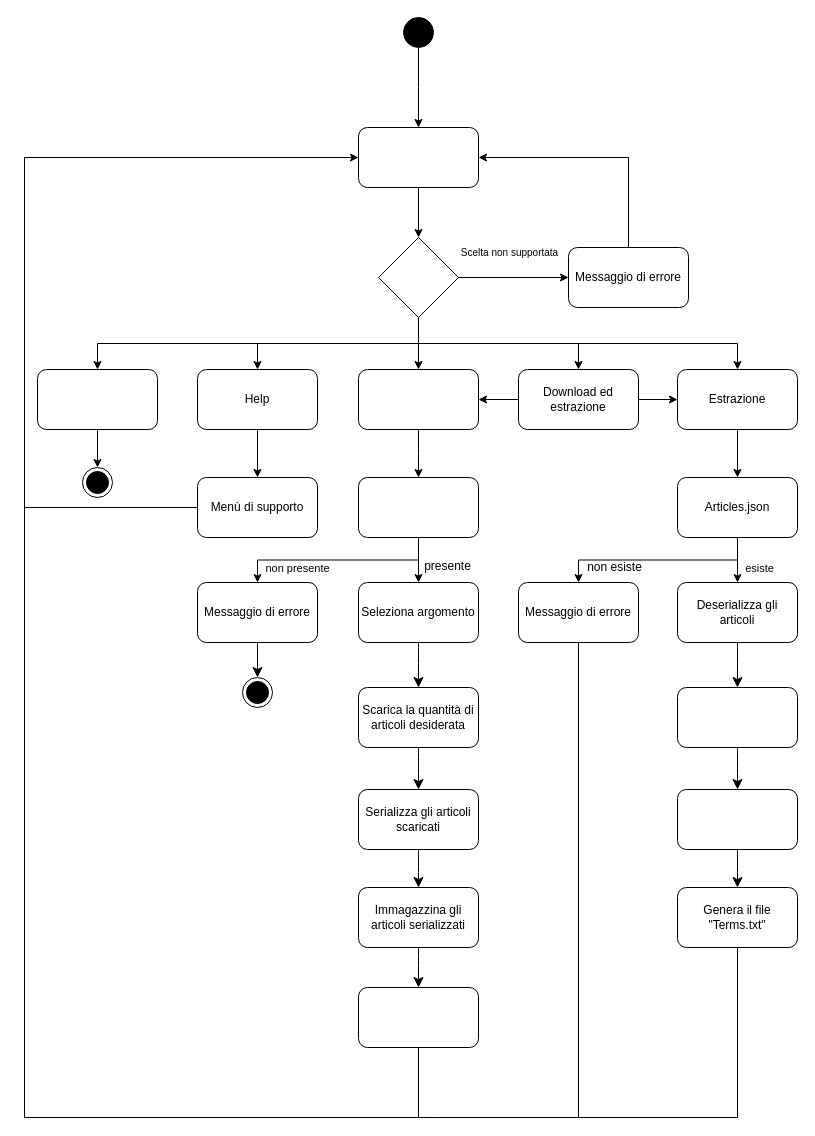
The diagram is 815 pixels wide and 1136 high, and some of its shapes have lost their labels. The centre of each missing label's shape, as x and y in pixels:
API key: point (418, 507)
Download: point (418, 399)
Estrae i termini più importanti: point (737, 717)
Exit: point (97, 399)
Genera il file "Articles.json": point (418, 1017)
Immagazzina i termini in formato "termine peso": point (737, 819)
Scelta dell'azione da compiere: point (418, 157)
